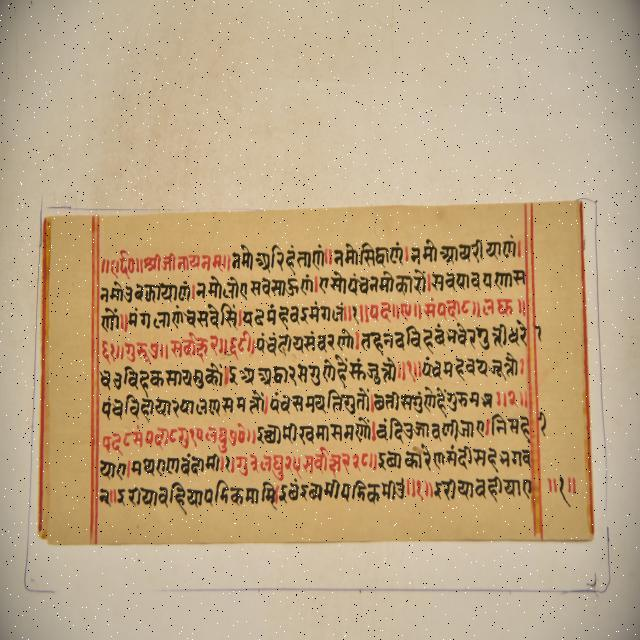text_paragraph: (43, 200, 591, 543)
